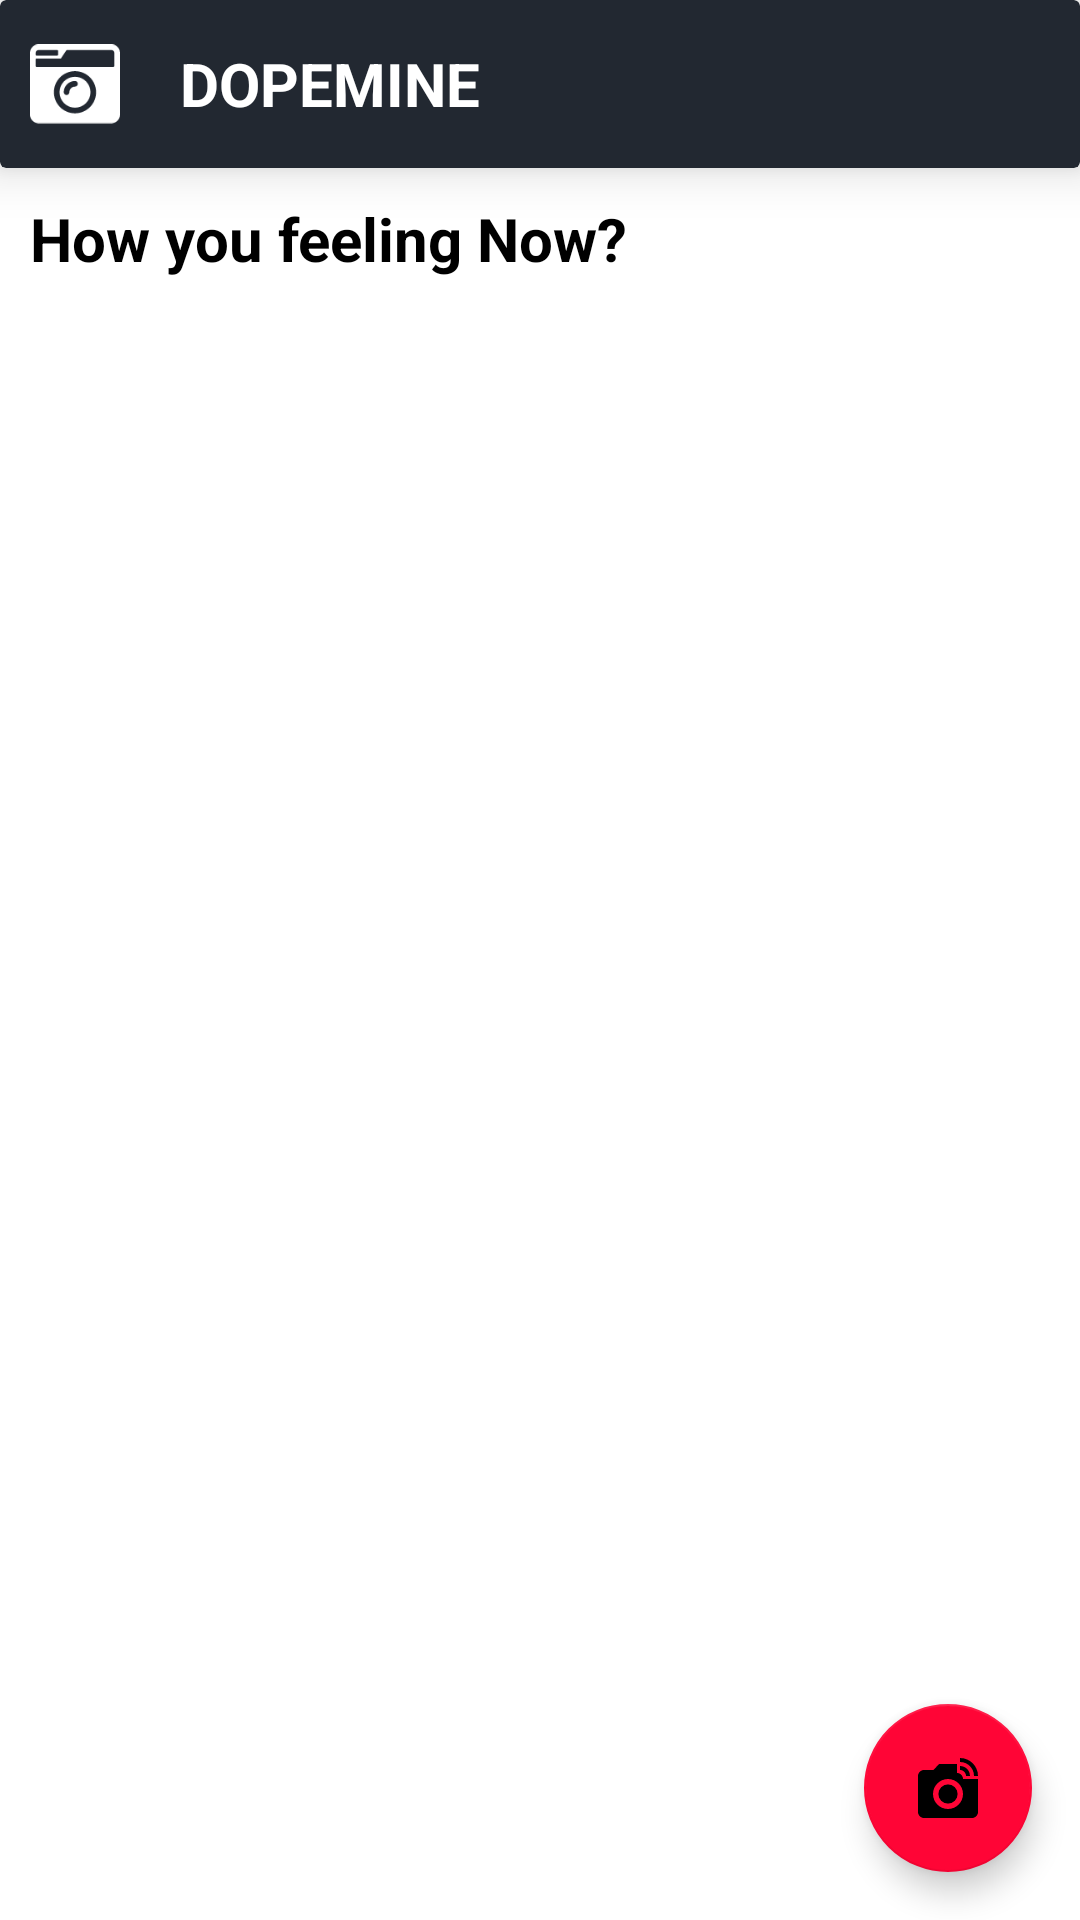

Point at icon controls on the screen. Image size 1080w x 1920h, points as (x,y).
camera: (948,1788)
